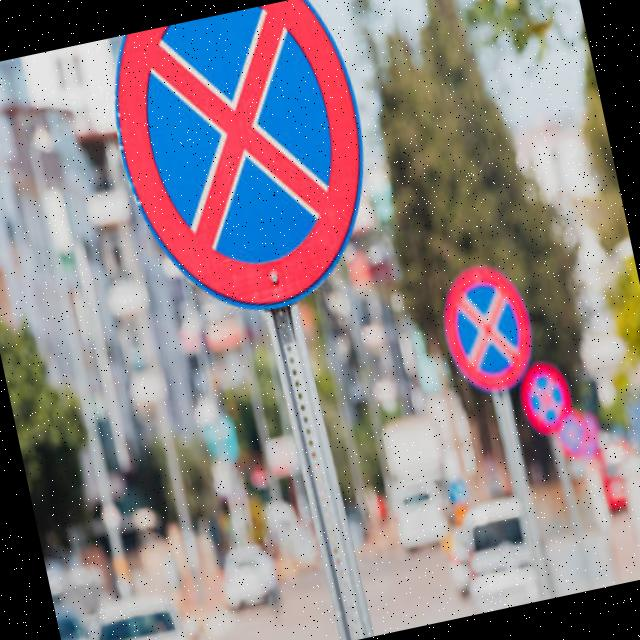no_parking: (80, 0, 392, 345), (423, 250, 540, 405), (515, 352, 593, 443)
